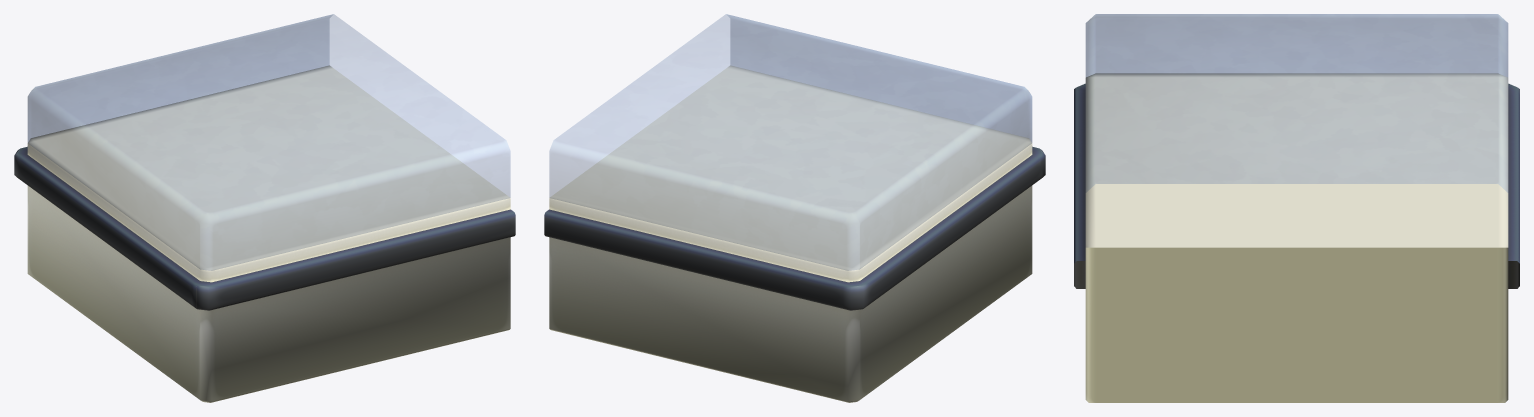
The model's file is LP_Showcases_U.fbx.
3 renders of one model, left to right at view 1: azimuth 30°, elevation 25°; view 2: azimuth 150°, elevation 25°; view 3: azimuth 270°, elevation 25°, orthographic. The views are drawn at different scales.
Visible parts, largest first — view 1: Showcase_U; view 2: Showcase_U; view 3: Showcase_U.
Boxes of the visible parts, left/top/right/bottom form: Showcase_U: left=14, top=14, right=515, bottom=402; Showcase_U: left=544, top=14, right=1045, bottom=402; Showcase_U: left=1074, top=14, right=1519, bottom=402.
Bounding box in the file's own units: 105 × 60 × 111.
